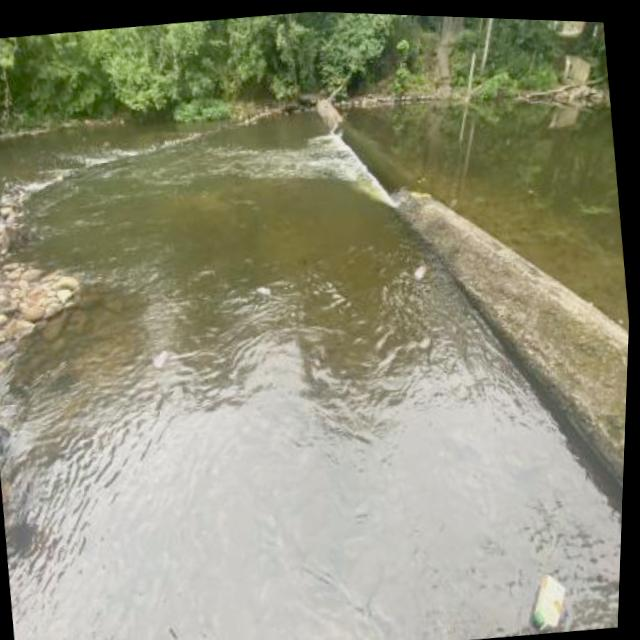Cardboard: (529, 562, 578, 631)
Plastic: (411, 254, 430, 279)
